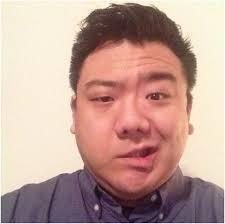strokeEyeMid: (82, 80, 178, 113)
strokeMouthSevere: (110, 141, 166, 171)
